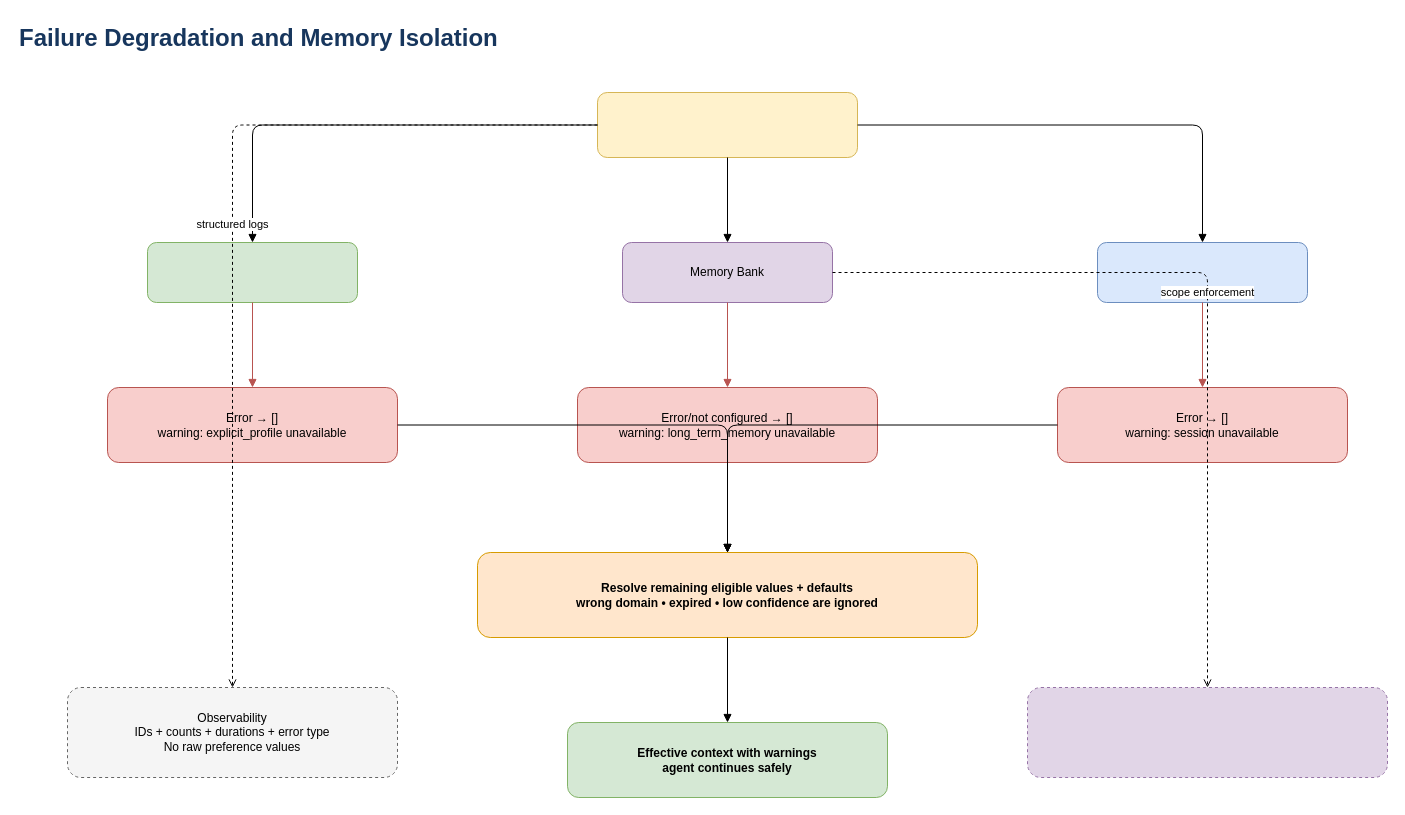
Image size: 1405x815. Some labels were removed from this diagram. Each missing label, with the centre of its shape:
"Managed session" belongs at point (1202, 272).
"Memory authorization boundary (user_id, app_name, domain) must all match" belongs at point (1207, 732).
"PreferenceContextService" belongs at point (727, 125).
"Profile service" belongs at point (252, 272).
